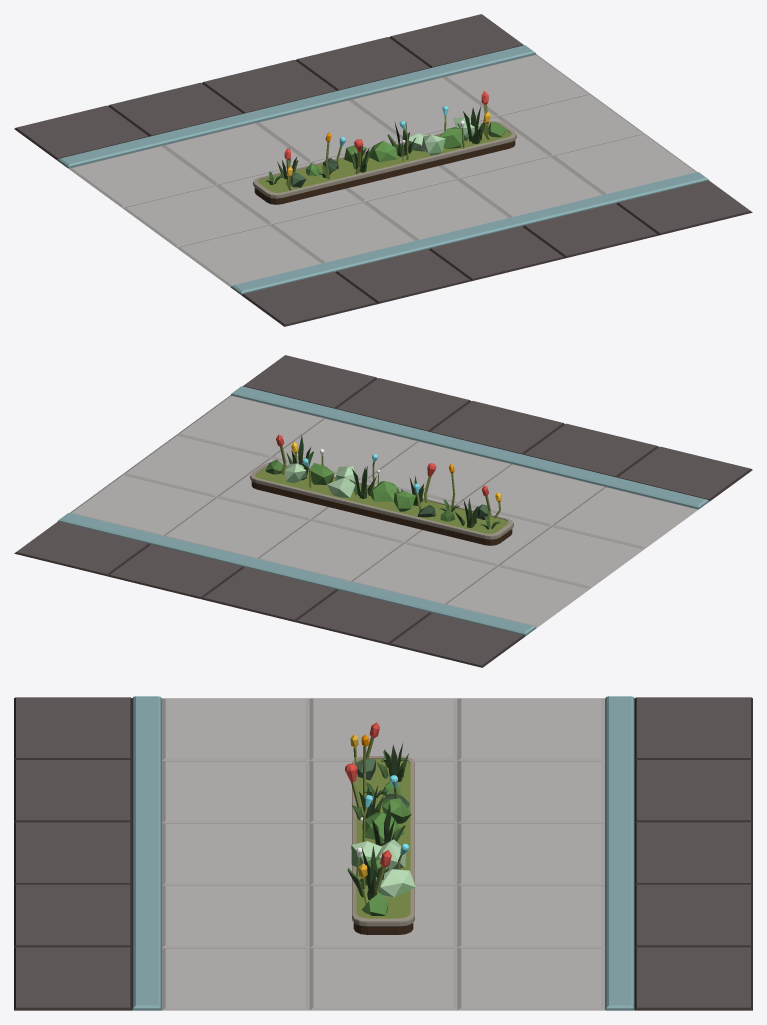
Rendered from Road_C.glb.
3 views of the same model, one above another, from view 1: azimuth 30°, elevation 25°; view 2: azimuth 150°, elevation 25°; view 3: azimuth 270°, elevation 25° (orthographic). The views are drawn at different scales.
Visible parts, largest first — view 1: Road_C, Cube.283; view 2: Road_C, Cube.283; view 3: Road_C, Cube.283, Tree_03.1530, Grass_03.648, Grass_03.651, Tree_03.1533.
Part boxes in pixels (left/top/right/bottom): Road_C: left=14, top=14, right=752, bottom=326; Cube.283: left=253, top=121, right=516, bottom=204; Road_C: left=14, top=355, right=752, bottom=667; Cube.283: left=250, top=462, right=513, bottom=545; Road_C: left=14, top=696, right=752, bottom=1010; Cube.283: left=352, top=756, right=414, bottom=934; Tree_03.1530: left=375, top=869, right=415, bottom=897; Grass_03.648: left=347, top=845, right=388, bottom=900; Grass_03.651: left=376, top=743, right=408, bottom=781; Tree_03.1533: left=362, top=812, right=404, bottom=841.
Size of what is drawn, in the model's own units: 16 by 1.95 by 16.
1 material, 1 textured.
